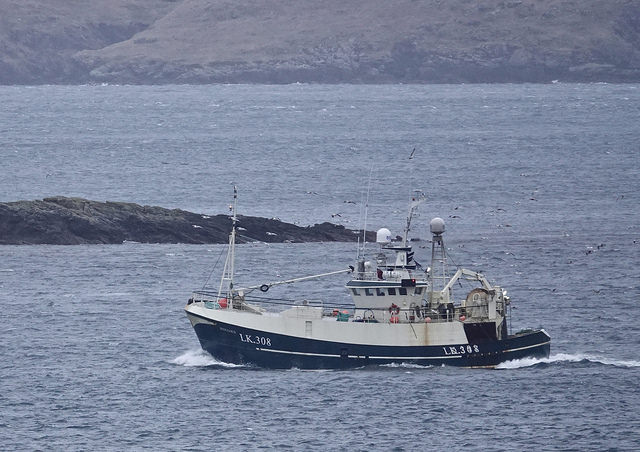fishing_boat: (193, 181, 568, 365)
